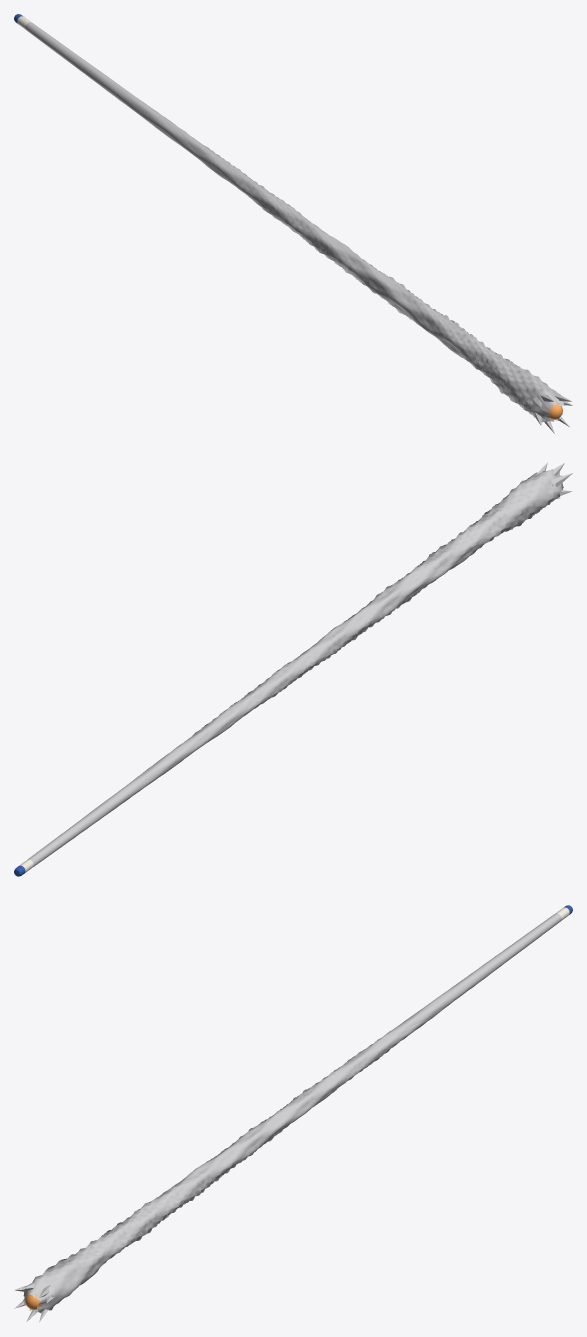
File: cue_molten.glb
3 renders of one model, top to bottom at view 1: azimuth 30°, elevation 25°; view 2: azimuth 150°, elevation 25°; view 3: azimuth 330°, elevation 25°, orthographic.
Visible parts, largest first — view 1: rock; view 2: rock; view 3: rock.
Boxes of the visible parts, x1,y1,x2,y2 form: rock: (25,22,572,433); rock: (27,462,572,866); rock: (14,913,561,1322).
Size of the model in its own units: 0.0522 by 0.0545 by 1.48.
